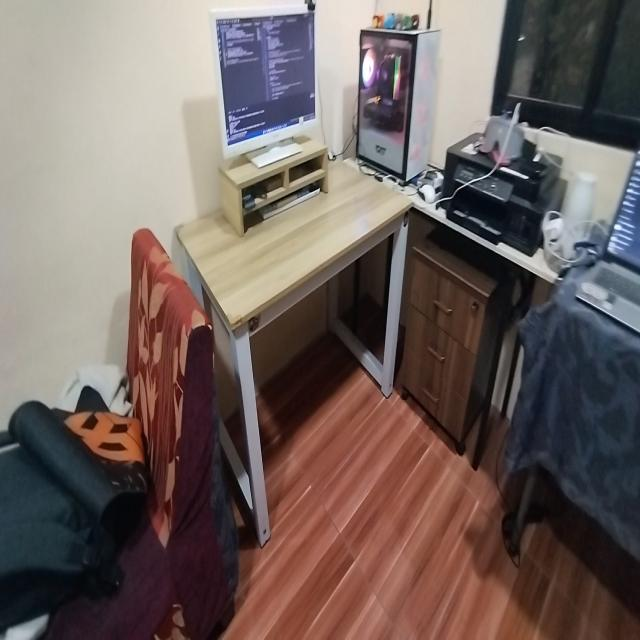table: (197, 147, 402, 499)
